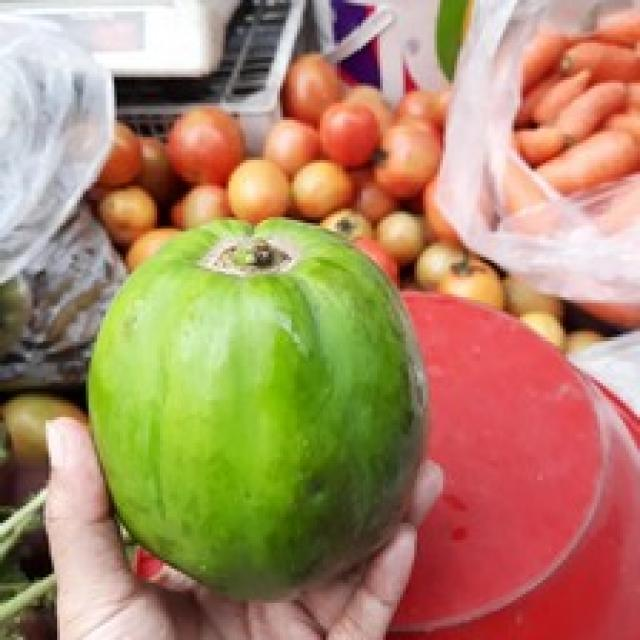Pepaya unrippen: (89, 218, 429, 605)
